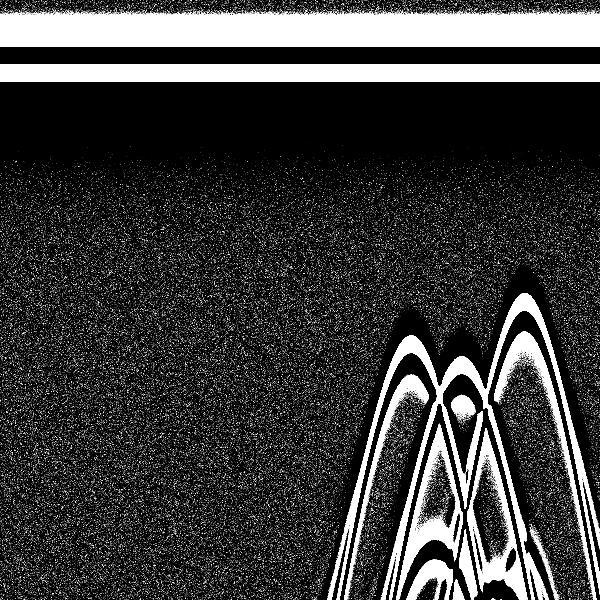pipe: (410, 8, 508, 438), (362, 5, 453, 412), (482, 5, 564, 362)
